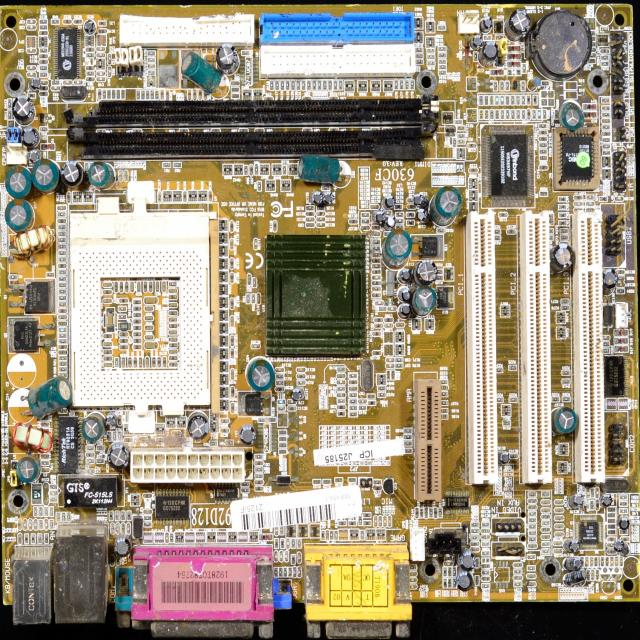Capacitor Jumper: (44, 518, 48, 529), (249, 165, 253, 176), (144, 509, 152, 514), (17, 520, 22, 528), (23, 520, 27, 529), (469, 167, 476, 172), (28, 24, 35, 29), (60, 351, 68, 355), (254, 462, 264, 465), (467, 143, 474, 147), (58, 321, 65, 325), (289, 401, 298, 404), (86, 470, 95, 473), (166, 532, 169, 541), (349, 381, 357, 384), (338, 404, 344, 408), (42, 455, 48, 459), (42, 467, 48, 471), (28, 48, 34, 52), (387, 516, 390, 524), (378, 517, 381, 525), (286, 539, 289, 547), (298, 552, 301, 560), (606, 558, 609, 566), (526, 583, 534, 586), (108, 56, 111, 64), (53, 85, 59, 89), (306, 223, 312, 227), (114, 282, 117, 290), (120, 299, 128, 302), (87, 453, 94, 456), (29, 67, 36, 70), (108, 68, 111, 75), (76, 81, 83, 84), (385, 324, 392, 327), (360, 399, 365, 403), (425, 508, 427, 518), (435, 508, 437, 518), (384, 516, 386, 526), (275, 550, 277, 560), (596, 570, 598, 580), (232, 388, 234, 397), (600, 49, 606, 52), (555, 532, 561, 535), (286, 552, 288, 561), (445, 561, 451, 564), (514, 564, 520, 567), (515, 576, 521, 579), (27, 73, 36, 75), (541, 166, 547, 169), (576, 202, 582, 205), (409, 206, 415, 209), (60, 265, 66, 268), (374, 265, 380, 268), (372, 486, 380, 488), (29, 520, 31, 528), (34, 521, 36, 529), (280, 552, 282, 560), (600, 557, 602, 565), (294, 568, 296, 576), (248, 276, 250, 284), (604, 335, 608, 339), (388, 359, 393, 362), (411, 579, 416, 582), (501, 213, 506, 216), (385, 318, 390, 321), (276, 527, 278, 534), (595, 557, 597, 564), (105, 300, 112, 302), (338, 375, 344, 377), (338, 394, 344, 396), (50, 492, 56, 494), (472, 542, 478, 544), (619, 558, 621, 564), (298, 569, 300, 575), (529, 575, 533, 578), (481, 578, 487, 580), (98, 72, 104, 74), (98, 78, 104, 80), (66, 80, 70, 83), (28, 20, 34, 22), (576, 208, 582, 210), (58, 220, 64, 222), (390, 307, 394, 310), (59, 310, 65, 312), (376, 319, 380, 322), (40, 32, 46, 34), (170, 351, 176, 353), (351, 387, 356, 389), (472, 548, 477, 550), (483, 565, 488, 567), (410, 586, 415, 588), (588, 203, 593, 205), (374, 276, 379, 278), (398, 323, 403, 325), (375, 326, 380, 328), (588, 571, 589, 580), (339, 381, 343, 383), (100, 47, 104, 49), (576, 196, 580, 198), (378, 302, 382, 304), (169, 344, 177, 345), (375, 518, 376, 524), (587, 210, 592, 211), (388, 365, 392, 366), (592, 54, 594, 56), (443, 387, 446, 388)
Connector: (469, 215, 494, 477), (531, 215, 550, 478), (584, 217, 596, 471), (420, 382, 437, 492)
IC: (270, 239, 360, 349), (485, 130, 530, 204), (59, 418, 76, 470), (605, 356, 625, 395), (60, 31, 76, 75), (155, 498, 183, 518), (580, 522, 597, 544), (213, 486, 237, 497), (448, 496, 466, 506), (384, 478, 392, 492)
Resistor Jumper: (162, 162, 170, 168), (499, 80, 503, 89), (438, 46, 446, 50), (542, 492, 550, 496), (50, 520, 54, 528), (522, 64, 526, 72), (494, 82, 498, 90), (46, 272, 54, 276), (378, 306, 386, 310), (56, 512, 59, 522), (561, 228, 567, 233), (253, 276, 256, 286), (495, 35, 502, 39), (87, 460, 94, 464), (44, 508, 48, 515), (358, 517, 362, 524), (298, 541, 302, 548), (8, 100, 12, 107), (58, 277, 65, 281), (506, 96, 509, 105), (247, 294, 250, 303), (114, 359, 118, 365), (484, 35, 490, 39), (350, 374, 356, 378), (258, 418, 264, 422), (118, 432, 121, 440), (42, 461, 48, 465), (336, 478, 342, 482), (591, 500, 594, 508), (39, 49, 47, 52), (38, 508, 42, 514), (530, 518, 536, 522), (242, 51, 250, 54), (530, 524, 536, 528), (292, 540, 295, 548), (86, 53, 94, 56), (544, 549, 550, 553), (475, 576, 478, 584), (338, 82, 342, 88), (512, 96, 515, 104), (538, 109, 541, 117), (501, 110, 504, 118), (522, 112, 526, 118), (542, 111, 545, 119), (458, 139, 466, 142), (540, 150, 546, 154), (602, 152, 610, 155), (307, 206, 313, 210), (40, 19, 46, 23), (8, 276, 16, 279), (59, 290, 65, 294), (562, 370, 569, 373), (404, 428, 411, 431), (225, 441, 232, 444), (86, 446, 93, 449), (280, 527, 283, 534), (472, 536, 479, 539), (601, 57, 608, 60), (302, 82, 305, 89), (275, 82, 278, 89), (292, 82, 295, 89), (172, 163, 179, 166), (58, 212, 65, 215), (58, 232, 65, 235), (210, 441, 215, 445), (51, 484, 56, 488), (145, 516, 150, 520), (428, 61, 433, 65), (233, 88, 238, 92), (59, 284, 64, 288), (60, 296, 65, 300), (60, 357, 65, 361), (368, 394, 374, 397), (552, 398, 558, 401), (338, 399, 344, 402), (113, 432, 115, 441), (97, 446, 103, 449), (256, 454, 262, 457), (255, 468, 261, 471), (529, 493, 535, 496), (439, 510, 442, 516), (471, 522, 477, 525), (144, 522, 150, 525), (170, 534, 173, 540), (482, 542, 488, 545), (428, 54, 434, 57), (416, 54, 422, 57), (288, 568, 291, 574), (440, 59, 446, 62), (41, 73, 47, 76), (395, 82, 398, 88), (329, 83, 332, 89), (494, 96, 497, 102), (517, 112, 520, 118), (540, 144, 546, 147), (284, 165, 286, 174), (384, 211, 390, 214), (58, 225, 64, 228), (561, 236, 567, 239), (443, 414, 447, 418), (590, 488, 592, 496), (421, 508, 423, 516), (62, 512, 64, 520), (68, 514, 70, 522), (40, 520, 42, 528), (481, 524, 489, 526), (449, 568, 451, 576), (602, 62, 606, 66), (523, 81, 525, 89), (314, 82, 316, 90), (484, 96, 486, 104), (538, 157, 546, 159), (258, 182, 260, 190), (252, 294, 254, 302), (604, 342, 608, 346), (350, 413, 355, 416), (314, 480, 319, 483), (416, 48, 421, 51), (543, 522, 548, 525), (149, 52, 154, 55), (530, 532, 535, 535), (543, 542, 548, 545), (274, 569, 277, 574), (516, 583, 521, 586), (397, 213, 402, 216), (374, 240, 379, 243), (59, 251, 64, 254), (58, 258, 63, 261), (59, 271, 64, 274), (119, 307, 124, 310), (120, 315, 125, 318), (60, 328, 65, 331), (255, 475, 262, 477), (620, 496, 627, 498), (331, 531, 333, 538), (362, 531, 364, 538), (401, 81, 403, 88), (406, 81, 408, 88), (282, 81, 284, 88), (506, 81, 508, 88), (319, 82, 321, 89), (287, 82, 289, 89), (298, 82, 300, 89), (324, 82, 326, 89), (108, 90, 110, 97), (146, 91, 148, 98), (151, 92, 153, 99), (480, 97, 482, 104), (507, 111, 509, 118), (533, 111, 535, 118), (599, 198, 606, 200), (439, 26, 446, 28), (509, 365, 515, 367), (339, 368, 343, 371), (278, 375, 282, 378), (298, 382, 304, 384), (563, 398, 569, 400), (404, 436, 410, 438), (404, 442, 410, 444), (350, 478, 354, 481), (323, 480, 329, 482), (376, 481, 380, 484), (428, 49, 434, 51), (51, 498, 55, 501), (608, 508, 614, 510), (34, 508, 36, 514), (338, 522, 344, 524), (528, 566, 534, 568), (280, 568, 282, 574), (453, 569, 455, 575), (284, 570, 286, 576), (453, 580, 455, 586), (40, 67, 46, 69), (86, 72, 92, 74), (54, 82, 60, 84), (411, 81, 413, 87), (270, 82, 272, 88), (308, 82, 310, 88), (335, 83, 337, 89), (112, 91, 114, 97), (137, 92, 139, 98), (142, 92, 144, 98), (232, 95, 238, 97), (518, 98, 520, 104), (511, 111, 513, 117), (8, 112, 10, 118), (454, 139, 456, 145), (603, 146, 609, 148), (318, 207, 322, 210), (363, 212, 367, 215), (52, 21, 58, 23), (361, 220, 367, 222), (397, 220, 401, 223), (495, 229, 499, 232), (59, 245, 65, 247), (171, 282, 175, 285), (60, 303, 66, 305), (60, 334, 64, 337), (510, 397, 515, 399), (279, 400, 284, 402), (441, 401, 446, 403), (279, 408, 284, 410), (97, 459, 102, 461), (242, 482, 247, 484), (621, 503, 626, 505), (530, 513, 535, 515), (609, 514, 614, 516), (472, 529, 477, 531), (483, 552, 488, 554), (411, 566, 416, 568), (515, 570, 520, 572), (483, 585, 488, 587), (441, 70, 446, 72), (155, 92, 157, 97), (522, 97, 524, 102), (602, 100, 607, 102), (603, 107, 608, 109), (603, 126, 608, 128), (458, 127, 463, 129), (396, 226, 401, 228), (373, 253, 378, 255), (59, 340, 64, 342), (278, 381, 281, 384), (499, 398, 502, 401), (443, 409, 446, 412), (406, 449, 409, 452), (438, 270, 441, 273), (60, 363, 64, 365), (397, 364, 401, 366), (498, 368, 502, 370), (60, 368, 64, 370), (60, 374, 64, 376), (442, 380, 446, 382), (339, 388, 343, 390), (379, 388, 383, 390), (379, 393, 383, 395), (360, 407, 364, 409), (503, 422, 507, 424), (243, 489, 247, 491), (610, 520, 614, 522), (610, 525, 614, 527), (531, 538, 535, 540), (440, 55, 444, 57), (484, 571, 488, 573), (440, 65, 444, 67), (604, 114, 608, 116), (456, 120, 460, 122), (540, 124, 544, 126), (42, 128, 46, 130), (459, 135, 463, 137), (588, 196, 592, 198), (59, 239, 63, 241), (374, 246, 378, 248), (40, 26, 44, 28), (436, 276, 440, 278), (431, 510, 432, 517), (449, 580, 450, 587), (118, 91, 119, 98), (104, 91, 105, 98), (501, 96, 502, 103), (491, 111, 492, 118), (563, 382, 569, 383), (351, 394, 354, 396), (351, 406, 354, 408), (51, 508, 52, 514), (496, 235, 498, 238), (563, 307, 566, 309), (350, 400, 355, 401), (149, 65, 154, 66), (122, 91, 123, 96), (562, 300, 567, 301), (443, 393, 447, 394), (610, 532, 614, 533), (150, 59, 154, 60), (589, 60, 593, 61), (149, 71, 153, 72), (604, 139, 606, 141), (619, 277, 623, 278), (604, 349, 606, 351), (398, 359, 402, 360), (418, 61, 421, 62), (336, 531, 336, 537)
Transistor: (26, 282, 52, 311), (13, 321, 35, 350), (240, 393, 264, 414), (416, 238, 440, 255), (439, 290, 451, 306), (599, 36, 607, 45), (310, 525, 318, 534), (444, 114, 452, 122), (445, 268, 451, 278), (447, 127, 454, 135), (496, 22, 502, 30), (512, 81, 518, 88), (299, 526, 304, 534), (289, 528, 293, 536)
